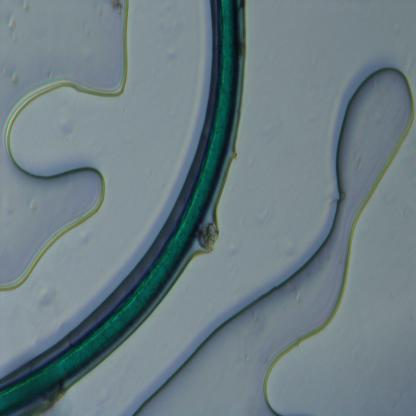Air bubble: (131, 68, 416, 414), (0, 0, 129, 289)
Microfibre: (0, 0, 247, 414)
